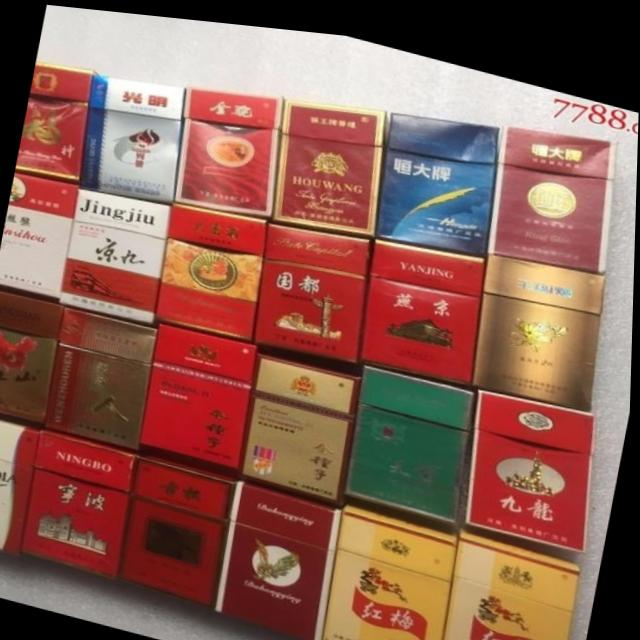box: (216, 475, 347, 638), (474, 242, 606, 399), (348, 357, 477, 517), (469, 380, 597, 540), (328, 496, 461, 640), (489, 116, 619, 262), (241, 347, 363, 500), (360, 232, 486, 377), (376, 103, 500, 246), (124, 452, 241, 600), (25, 429, 142, 577), (141, 320, 260, 464), (446, 518, 584, 640), (251, 218, 372, 357), (47, 305, 160, 448), (155, 200, 270, 337), (272, 94, 386, 230), (60, 186, 172, 321), (174, 83, 286, 213), (81, 71, 185, 200), (0, 172, 81, 297), (16, 60, 95, 182), (0, 292, 66, 422), (0, 419, 42, 557)
